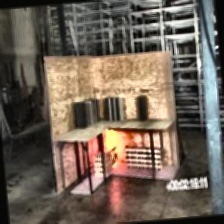fire: (100, 124, 129, 163)
